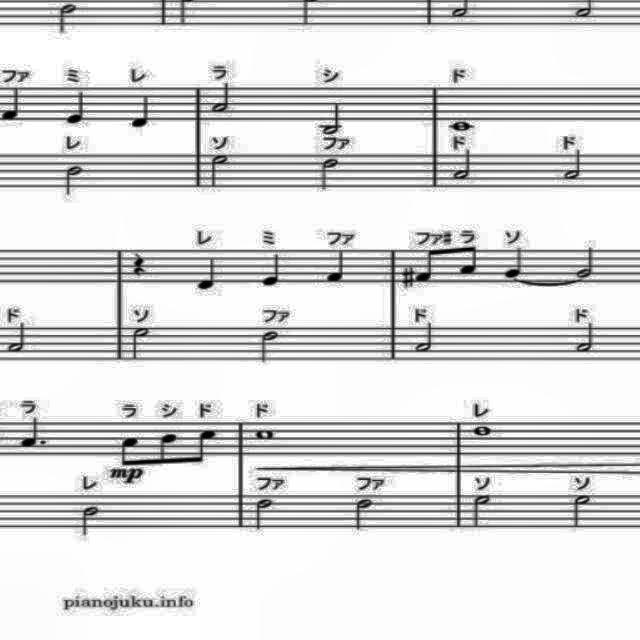Diez: (396, 262, 416, 294)
Eighth-note: (188, 423, 220, 467), (414, 247, 442, 287), (156, 428, 180, 468), (455, 243, 481, 279), (118, 436, 146, 468)
Full-note: (446, 118, 482, 134), (254, 425, 278, 447), (468, 426, 500, 442)
Half-note: (469, 490, 499, 534), (206, 148, 234, 192), (570, 315, 598, 357), (564, 491, 592, 531), (252, 327, 280, 365), (350, 493, 378, 531), (412, 318, 438, 356), (571, 243, 597, 281), (210, 78, 234, 119), (55, 1, 81, 38), (4, 318, 28, 358), (130, 324, 154, 364), (320, 102, 348, 136), (76, 502, 102, 538), (453, 146, 477, 184), (316, 157, 342, 191), (562, 146, 586, 182), (253, 496, 275, 532), (64, 160, 84, 198)
Quarter-dot: (18, 413, 56, 452)
Quarter-note: (127, 90, 161, 134), (63, 88, 91, 132), (0, 83, 28, 125), (260, 250, 288, 290), (503, 241, 527, 279), (326, 248, 348, 288), (198, 258, 222, 292)
Quarter-rest: (127, 249, 153, 283)
